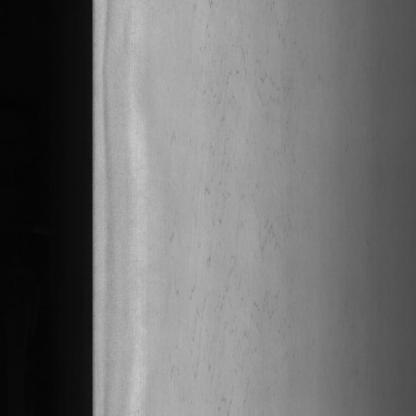silk_spot: (178, 43, 290, 370)
